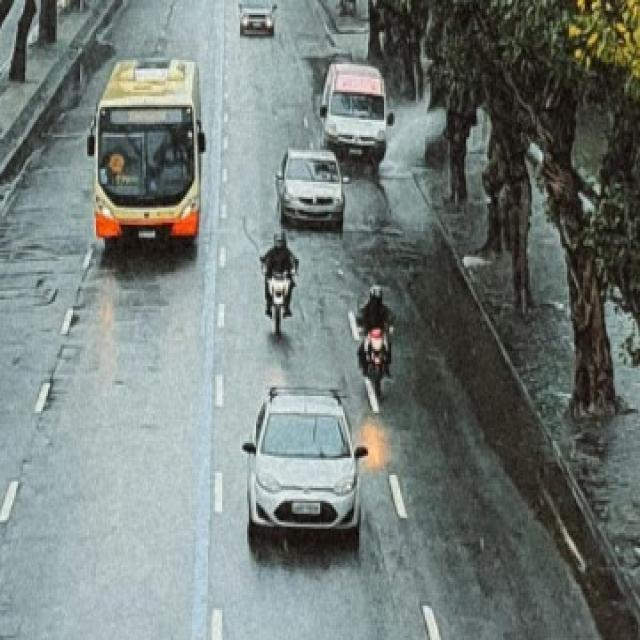bus: (88, 56, 206, 245)
car: (242, 383, 367, 541), (320, 63, 395, 168), (277, 147, 348, 230), (236, 0, 277, 35)
motorbike: (356, 288, 398, 397), (258, 232, 300, 334)
